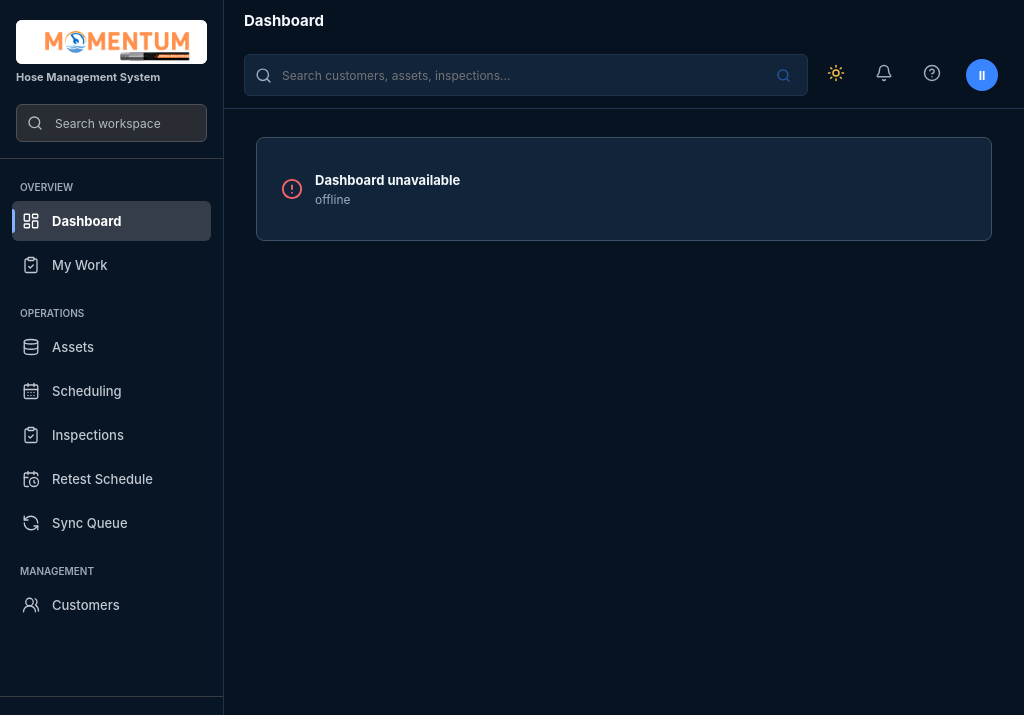
Test case: App › hides admin-only navigation for inspector sessions
The width and height of the screenshot is (1024, 715).
Check: the heading "Dashboard" is shown, box x1=244 y1=11 x2=324 y2=30
Check: the button "Assets" is shown, box x1=12 y1=327 x2=211 y2=367
Click the button "Inspections" at (112, 435), box x1=12 y1=415 x2=211 y2=455
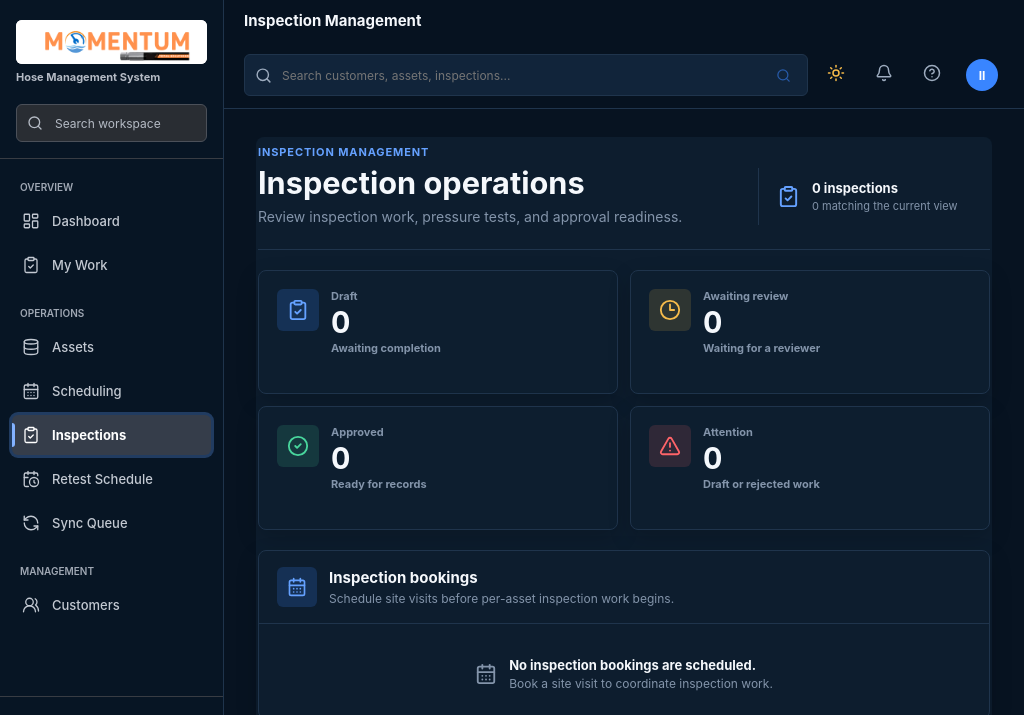
Check: the heading "Inspection Management" is shown, box x1=244 y1=11 x2=421 y2=30
